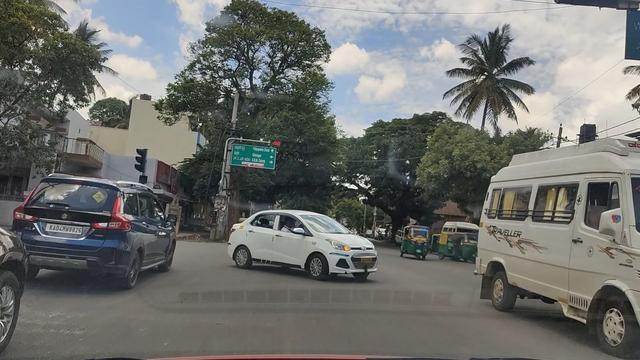LMV: (35, 179, 178, 283), (224, 212, 382, 283)
